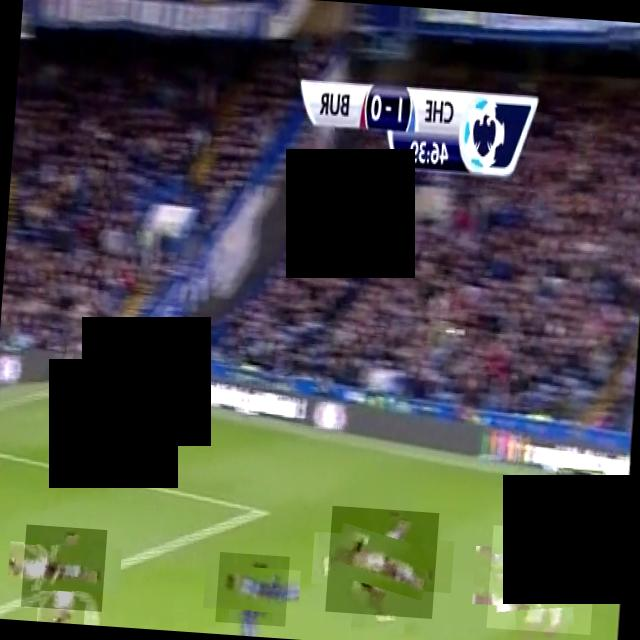soccer-player: (324, 504, 438, 618), (485, 524, 596, 634), (19, 523, 106, 610), (547, 466, 602, 587), (214, 550, 288, 626)
